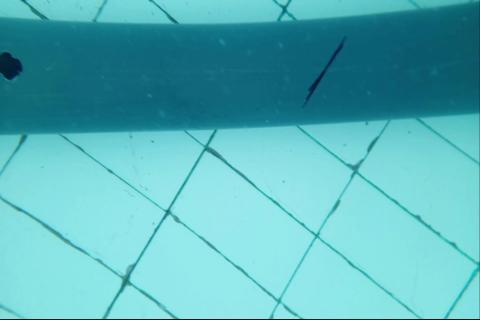kebocoran: (0, 51, 24, 82)
keretakan: (300, 34, 348, 107)
